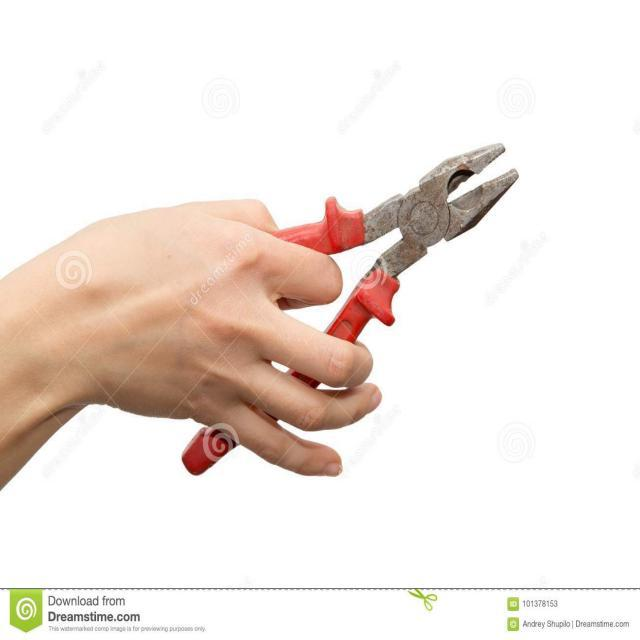pliers: (178, 136, 522, 480)
